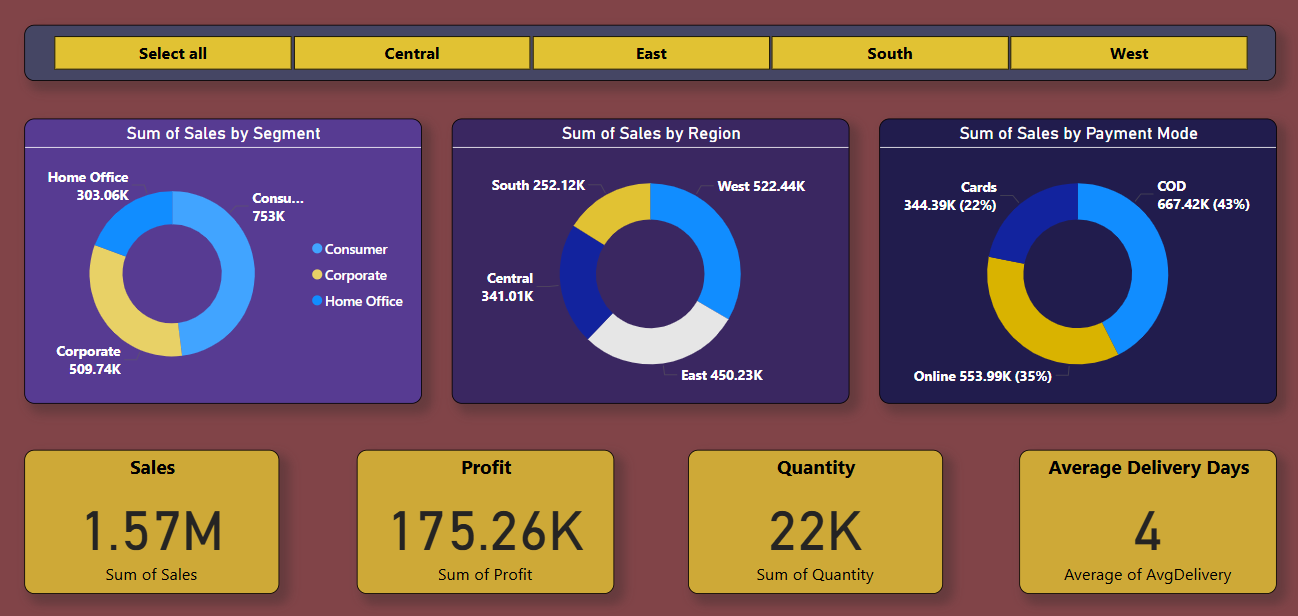

Layout of this report page (visuals, bound fields, positions):
{"tool":"powerbi","page":{"name":"Page 2","canvas":[1280,720],"ordinal":1},"visuals":[{"type":"donutChart","fields":{"Category":["SuperStore_Sales_Dataset.Segment"],"Y":["Sum(SuperStore_Sales_Dataset.Sales)"]},"box":[26.2,228.8,390,280],"z":0},{"type":"donutChart","fields":{"Category":["SuperStore_Sales_Dataset.Payment Mode","SuperStore_Sales_Dataset.Segment"],"Y":["Sum(SuperStore_Sales_Dataset.Sales)"]},"box":[865,228.8,390,280],"z":1000},{"type":"donutChart","fields":{"Category":["SuperStore_Sales_Dataset.Region","SuperStore_Sales_Dataset.Segment"],"Y":["Sum(SuperStore_Sales_Dataset.Sales)"]},"box":[445,228.8,390,280],"z":2000},{"type":"slicer","fields":{"Values":["SuperStore_Sales_Dataset.Region"]},"box":[26.2,136.2,1228.8,55],"z":3000},{"type":"card","title":"Profit","fields":{"Values":["Sum(SuperStore_Sales_Dataset.Profit)"]},"box":[352.5,553.8,252.5,141.2],"z":3001},{"type":"card","title":"Quantity","fields":{"Values":["Sum(SuperStore_Sales_Dataset.Quantity)"]},"box":[677.5,553.8,250,141.2],"z":3002},{"type":"card","title":"Sales","fields":{"Values":["Sum(SuperStore_Sales_Dataset.Sales)"]},"box":[26.2,553.8,250,141.2],"z":3003},{"type":"card","title":"Average Delivery Days","fields":{"Values":["Avg(SuperStore_Sales_Dataset.AvgDelivery)"]},"box":[1002.5,553.8,252.5,141.2],"z":3004},{"type":"textbox","box":[163.8,22.5,996.2,61.2],"z":3005}]}

Visuals, with their boxes on the page's 1280x720 design canvas (x1, y1, x2, y2). These are canvas units, not pixel positions in the 1298x616 screenshot, which may show the page scaled, cropped or inside an application window:
donutChart - SuperStore_Sales_Dataset.Segment x Sum(SuperStore_Sales_Dataset.Sales): {"x1": 26, "y1": 229, "x2": 416, "y2": 509}
donutChart - SuperStore_Sales_Dataset.Payment Mode x SuperStore_Sales_Dataset.Segment: {"x1": 865, "y1": 229, "x2": 1255, "y2": 509}
donutChart - SuperStore_Sales_Dataset.Region x SuperStore_Sales_Dataset.Segment: {"x1": 445, "y1": 229, "x2": 835, "y2": 509}
slicer - SuperStore_Sales_Dataset.Region: {"x1": 26, "y1": 136, "x2": 1255, "y2": 191}
"Profit" card: {"x1": 352, "y1": 554, "x2": 605, "y2": 695}
"Quantity" card: {"x1": 678, "y1": 554, "x2": 928, "y2": 695}
"Sales" card: {"x1": 26, "y1": 554, "x2": 276, "y2": 695}
"Average Delivery Days" card: {"x1": 1002, "y1": 554, "x2": 1255, "y2": 695}
textbox: {"x1": 164, "y1": 22, "x2": 1160, "y2": 84}
